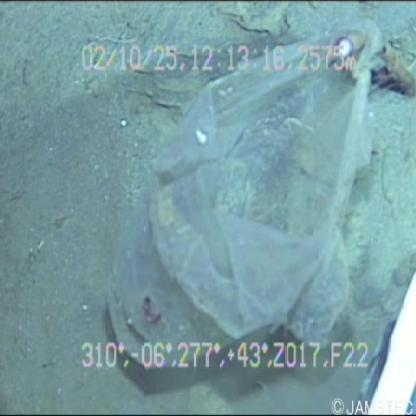Rác: (104, 20, 395, 400)
